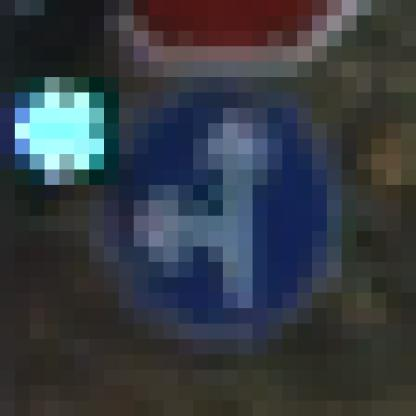Straight or Left: (90, 78, 343, 340)
